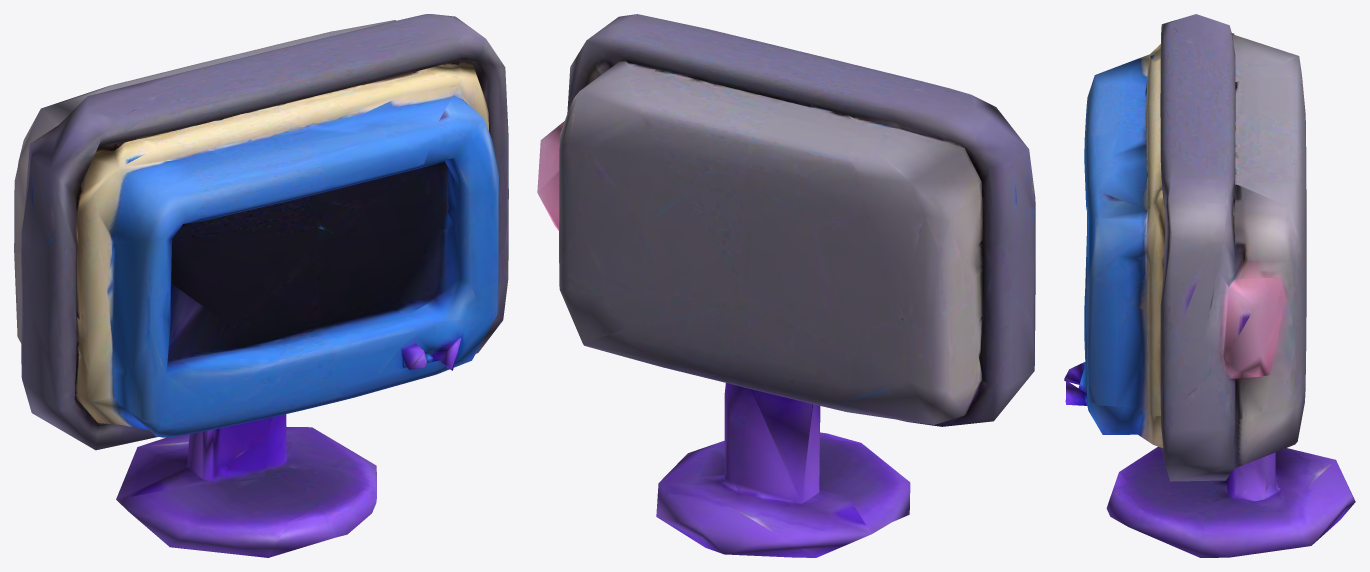
Rendered from qa_monitor.glb.
3 renders of one model, left to right at view 1: azimuth 30°, elevation 25°; view 2: azimuth 150°, elevation 25°; view 3: azimuth 270°, elevation 25°, orthographic. The views are drawn at different scales.
Parts seen in each view (by area): view 1: tripo_node_6f84caf2-d973-48fe-a7d1-6427cefafeba; view 2: tripo_node_6f84caf2-d973-48fe-a7d1-6427cefafeba; view 3: tripo_node_6f84caf2-d973-48fe-a7d1-6427cefafeba.
Part boxes in pixels (box(x1,y1,x2,y2)): tripo_node_6f84caf2-d973-48fe-a7d1-6427cefafeba: box(14, 14, 508, 557); tripo_node_6f84caf2-d973-48fe-a7d1-6427cefafeba: box(537, 14, 1035, 557); tripo_node_6f84caf2-d973-48fe-a7d1-6427cefafeba: box(1064, 14, 1355, 557).
Bounding box in the file's own units: 0.979 × 0.8986 × 0.5708.
Materials: 1 (1 with a texture image).
